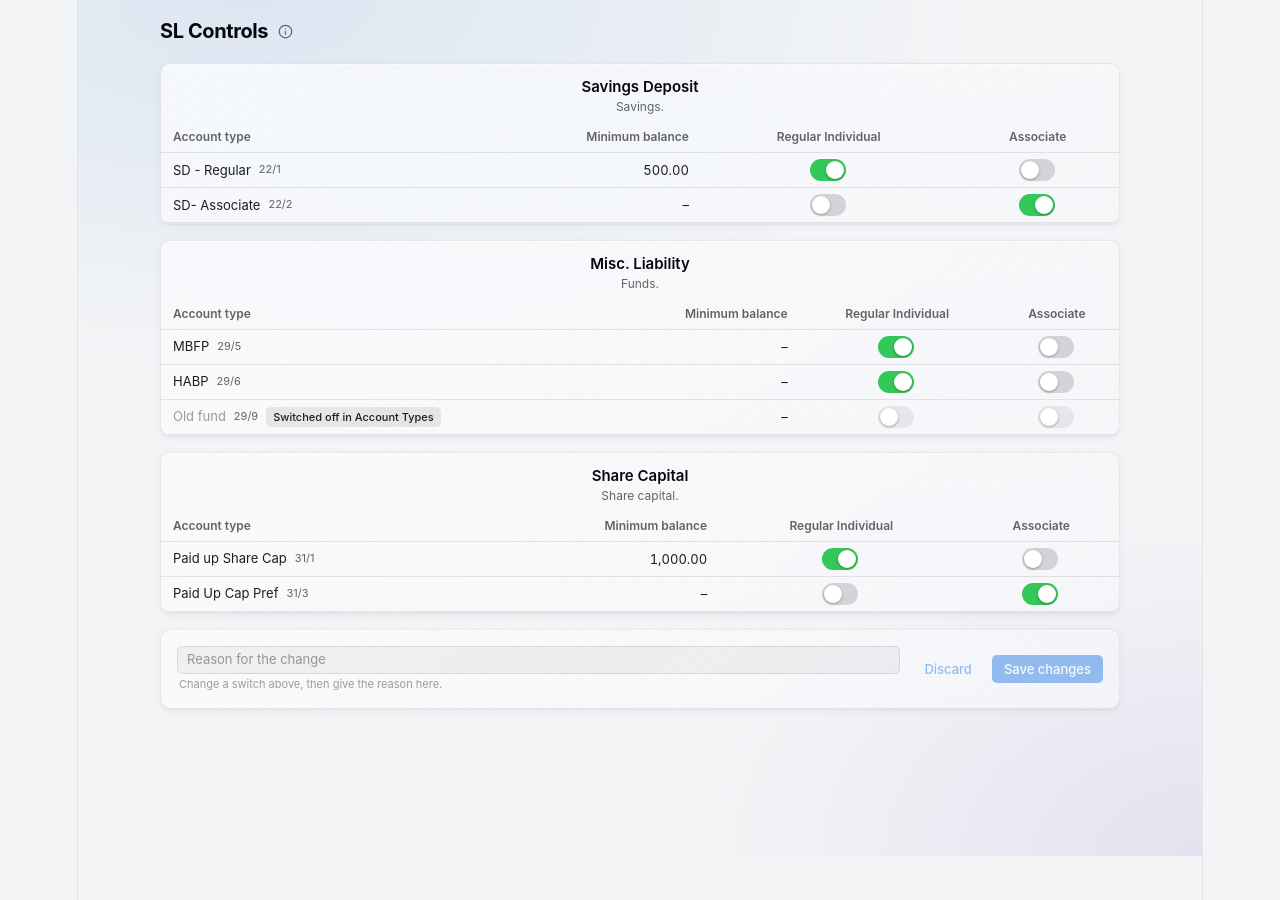
Test: SL Controls › will not save a member type left without share capital, and discards on request
Click the switch named "Paid Up Cap Pref opens for Associate members": (1047, 594) [1038,585,1056,603]
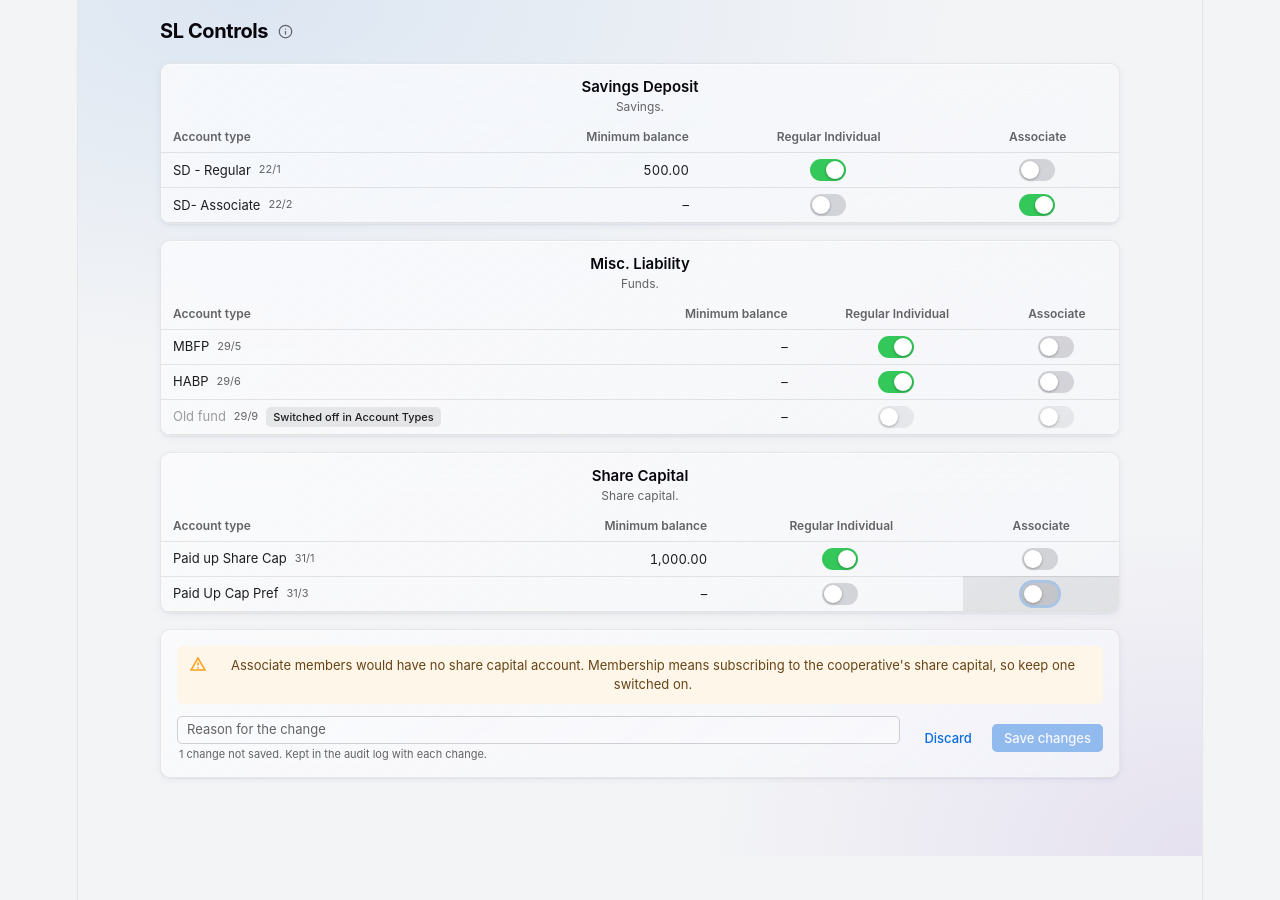
Expected: the text "Associate members would have no share capital account" is shown, [215,648,1091,702]
In the field labelled "Reason for the change": (539, 730) [177,716,900,744], type "testing"
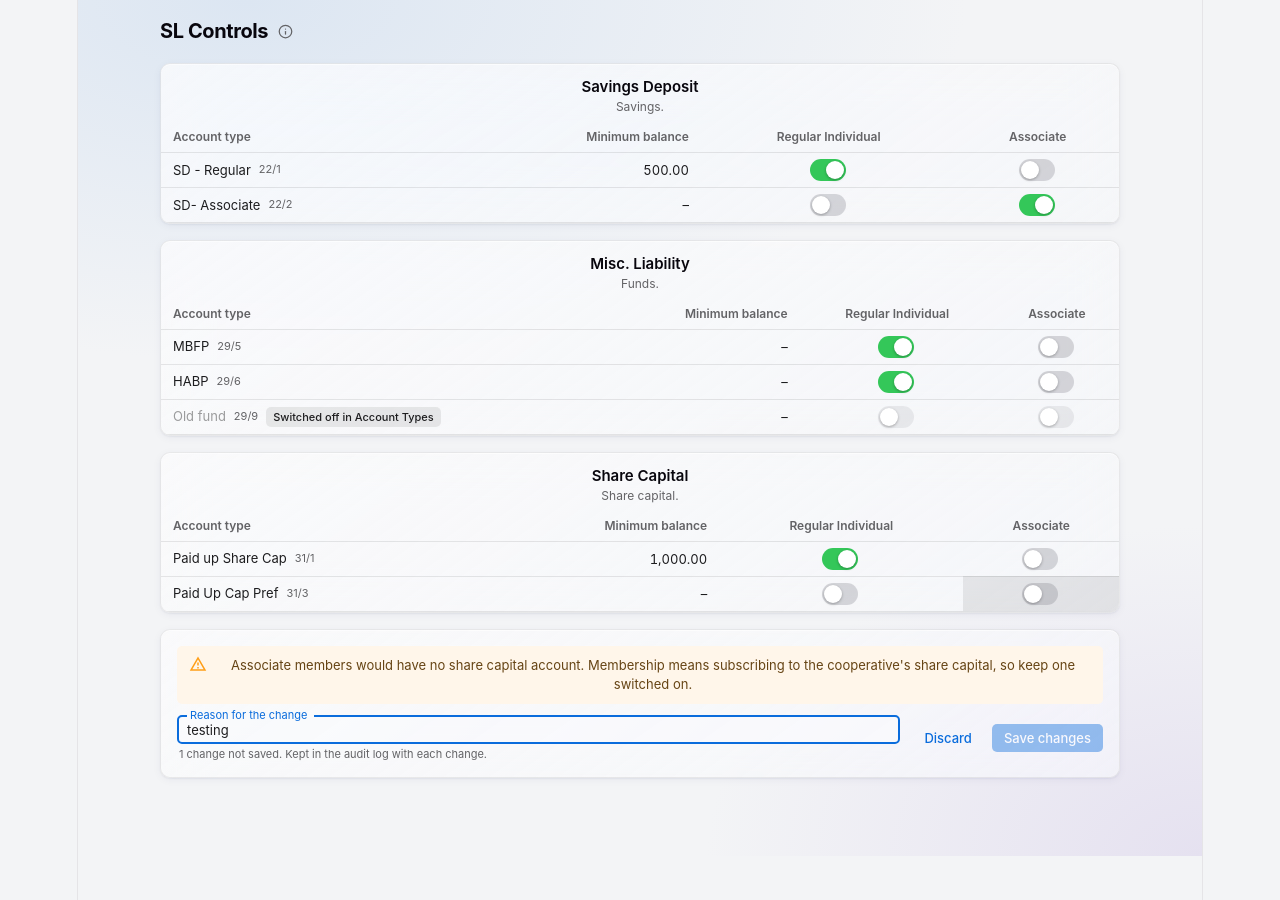
Expected: the button "Save changes" is disabled, [992,724,1103,752]
Click the button "Discard": (948, 738) [912,724,984,752]
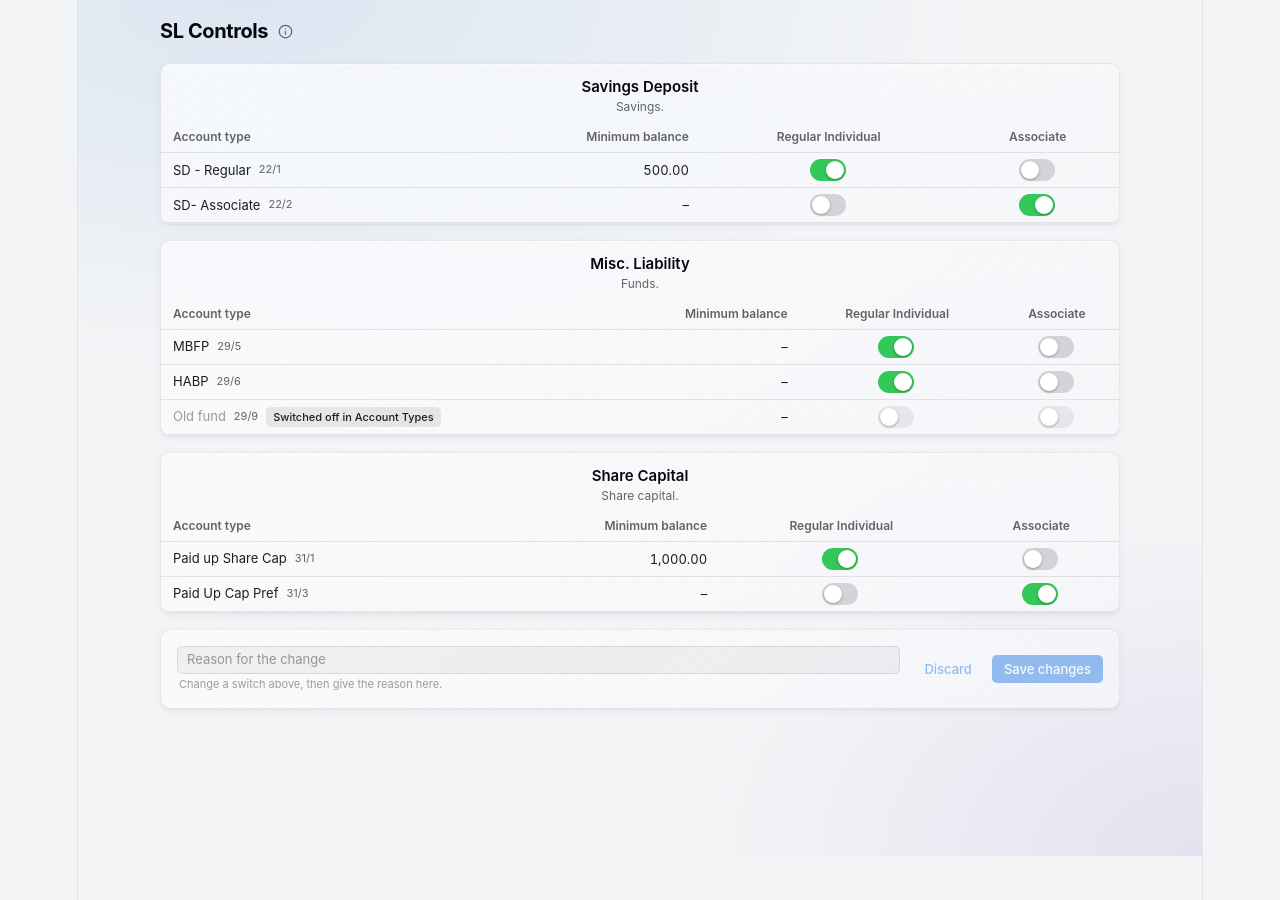
Expected: the switch named "Paid Up Cap Pref opens for Associate members" is checked, [1038,585,1056,603]
Expected: the text "would have no share capital account" is gone
